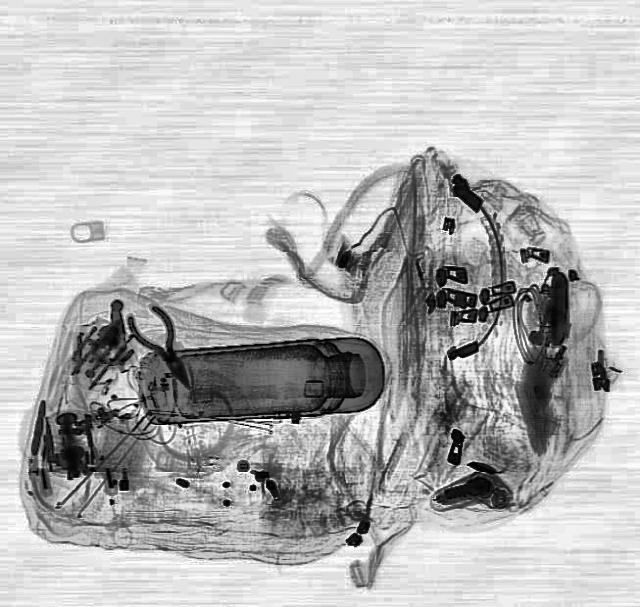Pliers: (121, 300, 209, 396)
